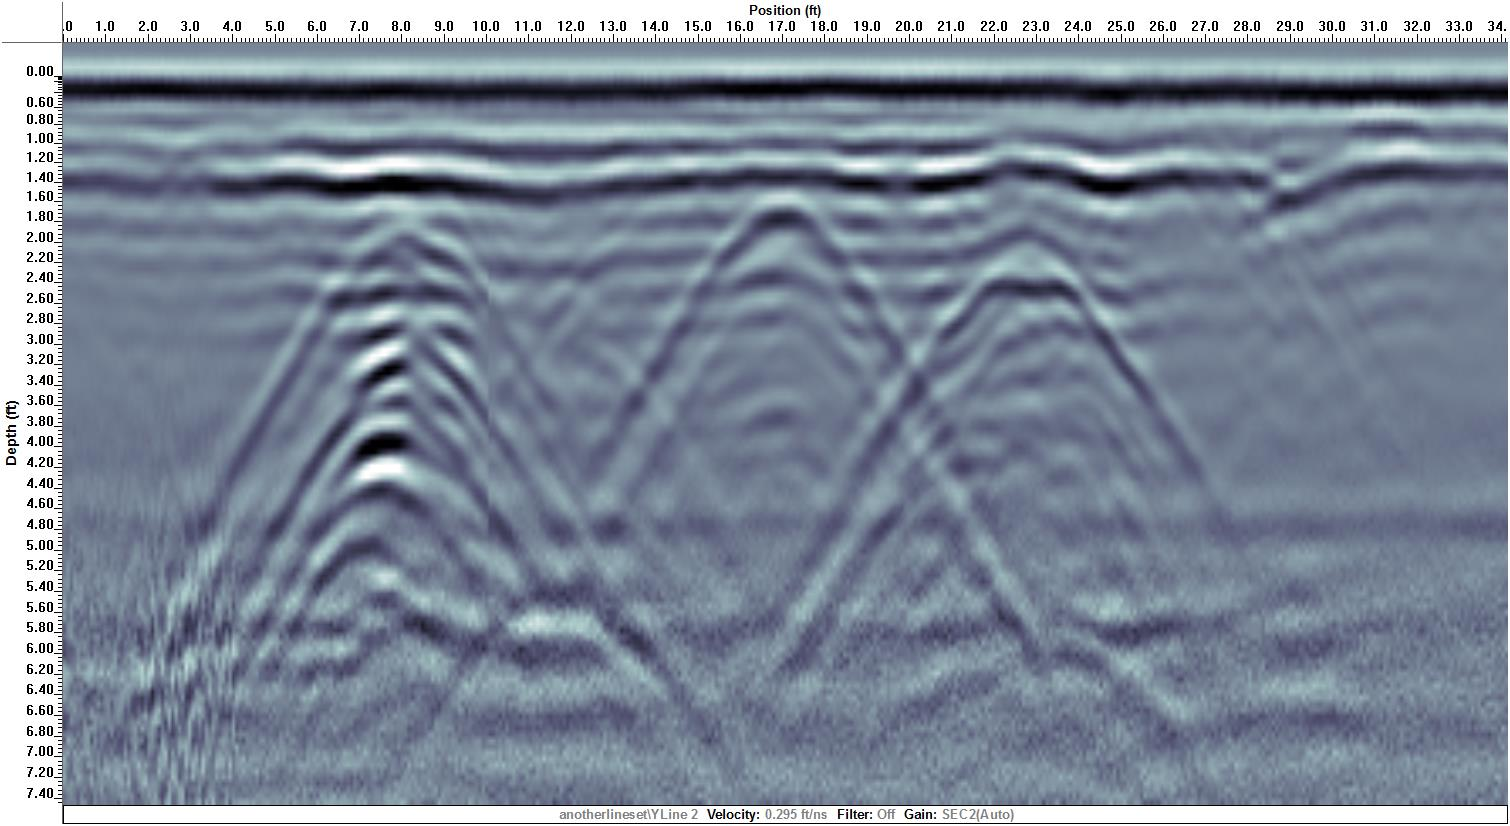hyperbola: (847, 235, 1204, 546), (625, 192, 929, 528), (220, 217, 568, 499)
